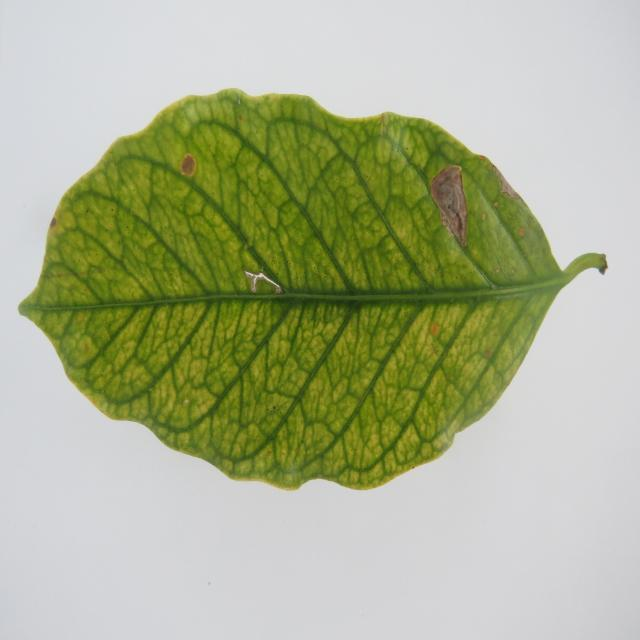DeficienciaNutricional-Magnesio: (20, 90, 606, 488)
